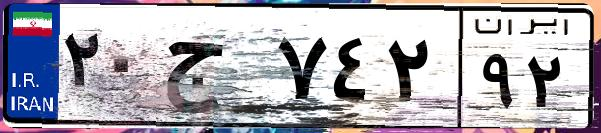0: (110, 28, 158, 98)
2: (385, 28, 445, 110), (57, 26, 110, 100), (525, 38, 570, 115)
4: (330, 28, 385, 110)
7: (270, 28, 330, 110)
9: (475, 38, 525, 113)
ج: (158, 20, 270, 120)
